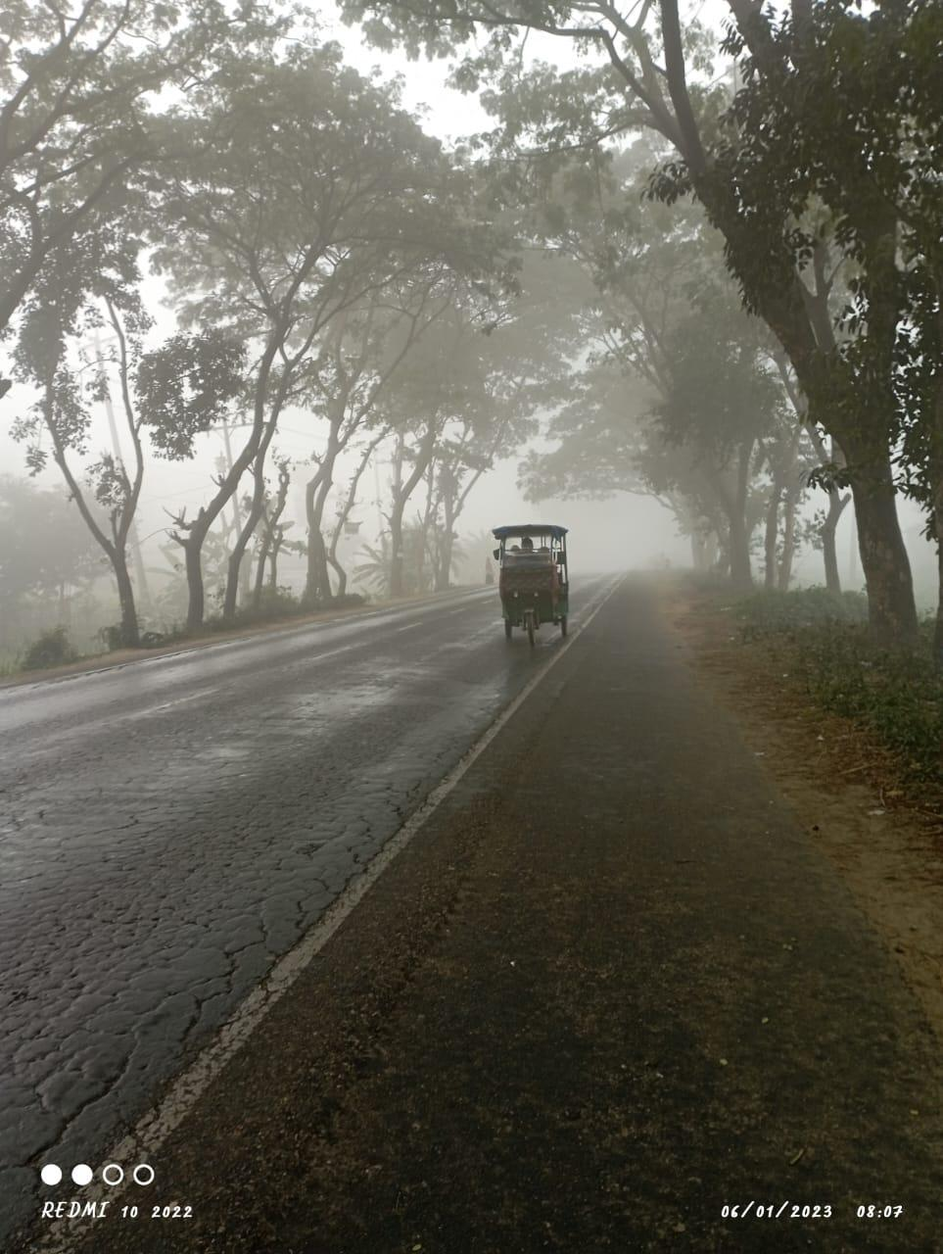Car: (479, 509, 599, 648)
